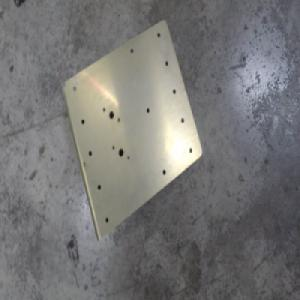MetalSheet: (61, 15, 203, 243)
